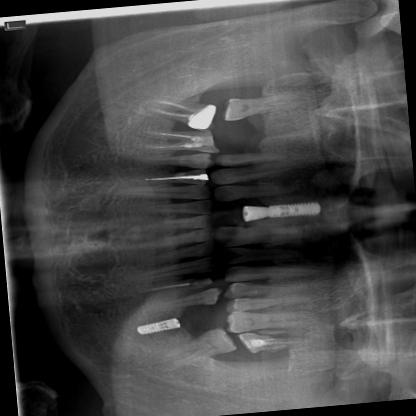ITI: (264, 194, 330, 222), (128, 312, 184, 341)
